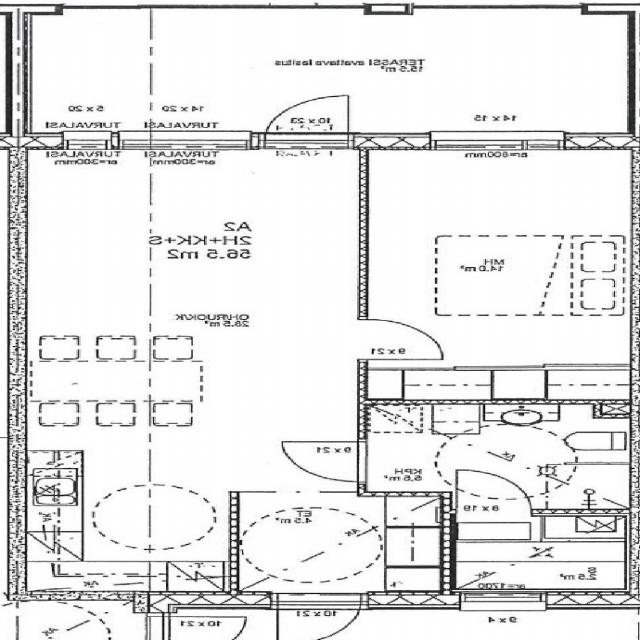door: (267, 90, 350, 150), (279, 591, 362, 640), (458, 469, 532, 516), (283, 442, 367, 482), (359, 320, 443, 360)
